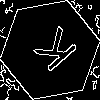K: (25, 25, 79, 80)
